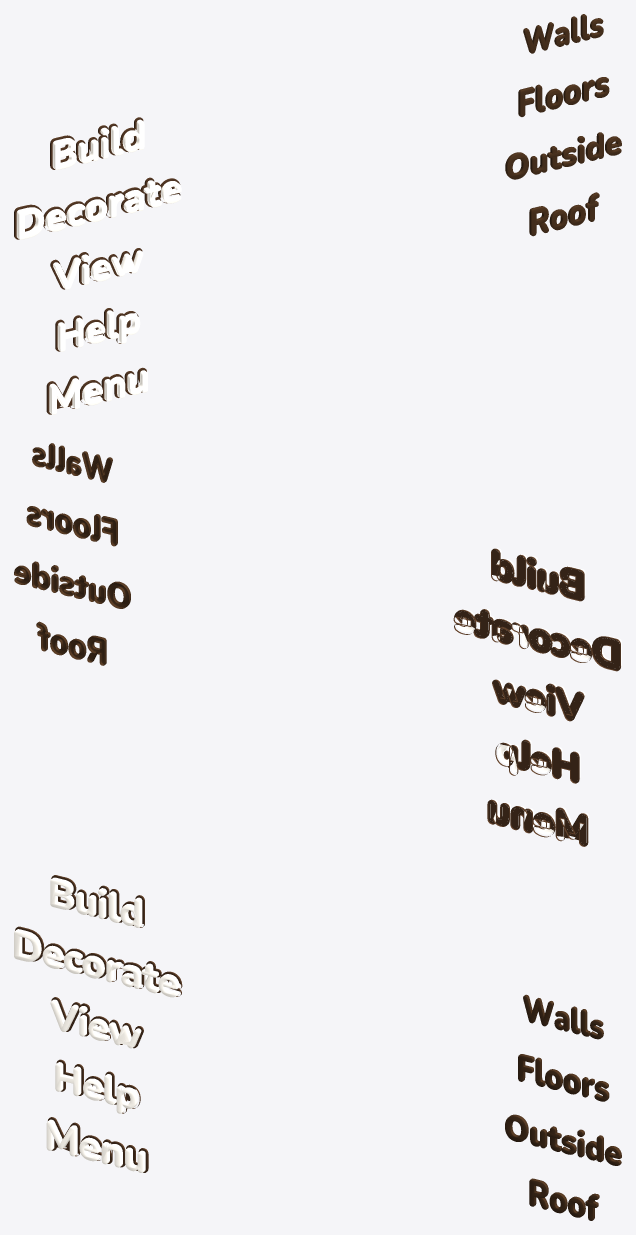
File: labels.glb
3 views of the same model, one above another, from view 1: azimuth 30°, elevation 25°; view 2: azimuth 150°, elevation 25°; view 3: azimuth 330°, elevation 25° (orthographic).
Visible parts, largest first — view 1: label_Decorate, pill_text_outside, label_Build, label_Menu, label_Help, pill_text_floors, label_View, pill_text_walls, pill_text_roof, label_Decorate_outline, label_Build_outline, label_Menu_outline (+2 smaller); view 2: label_Decorate_outline, label_Build_outline, label_Menu_outline, pill_text_outside, label_View_outline, label_Help_outline, pill_text_floors, pill_text_walls, pill_text_roof, label_Decorate, label_Help, label_Menu; view 3: label_Decorate, pill_text_outside, label_Build, label_Menu, label_Help, pill_text_floors, label_View, pill_text_walls, pill_text_roof, label_Decorate_outline, label_Build_outline, label_Menu_outline (+2 smaller).
Part boxes in pixels (box(x1,y1,x2,y2)): label_Decorate: box(16, 180, 181, 239); pill_text_outside: box(505, 132, 621, 179); label_Build: box(52, 119, 144, 169); label_Menu: box(49, 370, 147, 414); label_Help: box(57, 310, 140, 351); pill_text_floors: box(518, 77, 609, 116); label_View: box(53, 250, 143, 289); pill_text_walls: box(523, 14, 603, 53); pill_text_roof: box(529, 192, 599, 236); label_Decorate_outline: box(14, 177, 180, 239); label_Build_outline: box(50, 117, 143, 169); label_Menu_outline: box(46, 367, 146, 414); label_Decorate_outline: box(453, 609, 620, 671); label_Build_outline: box(491, 548, 584, 601); label_Menu_outline: box(487, 799, 588, 846); pill_text_outside: box(14, 561, 130, 608); label_View_outline: box(492, 679, 584, 721); label_Help_outline: box(495, 739, 579, 783); pill_text_floors: box(26, 506, 117, 546); pill_text_walls: box(32, 443, 112, 482); pill_text_roof: box(36, 621, 106, 665); label_Decorate: box(456, 609, 621, 666); label_Help: box(498, 739, 580, 778); label_Menu: box(490, 799, 589, 842); label_Decorate: box(14, 929, 179, 997); pill_text_outside: box(505, 1114, 621, 1165); label_Build: box(50, 877, 142, 927); label_Menu: box(46, 1119, 145, 1172); label_Help: box(55, 1062, 137, 1113); pill_text_floors: box(518, 1054, 609, 1101); label_View: box(50, 999, 141, 1048); pill_text_walls: box(523, 994, 603, 1039); pill_text_roof: box(529, 1178, 599, 1220); label_Decorate_outline: box(15, 926, 182, 996); label_Build_outline: box(51, 875, 144, 927); label_Menu_outline: box(48, 1117, 148, 1172).
Size of the model in its own units: 5.2 by 2.27 by 0.0582.
